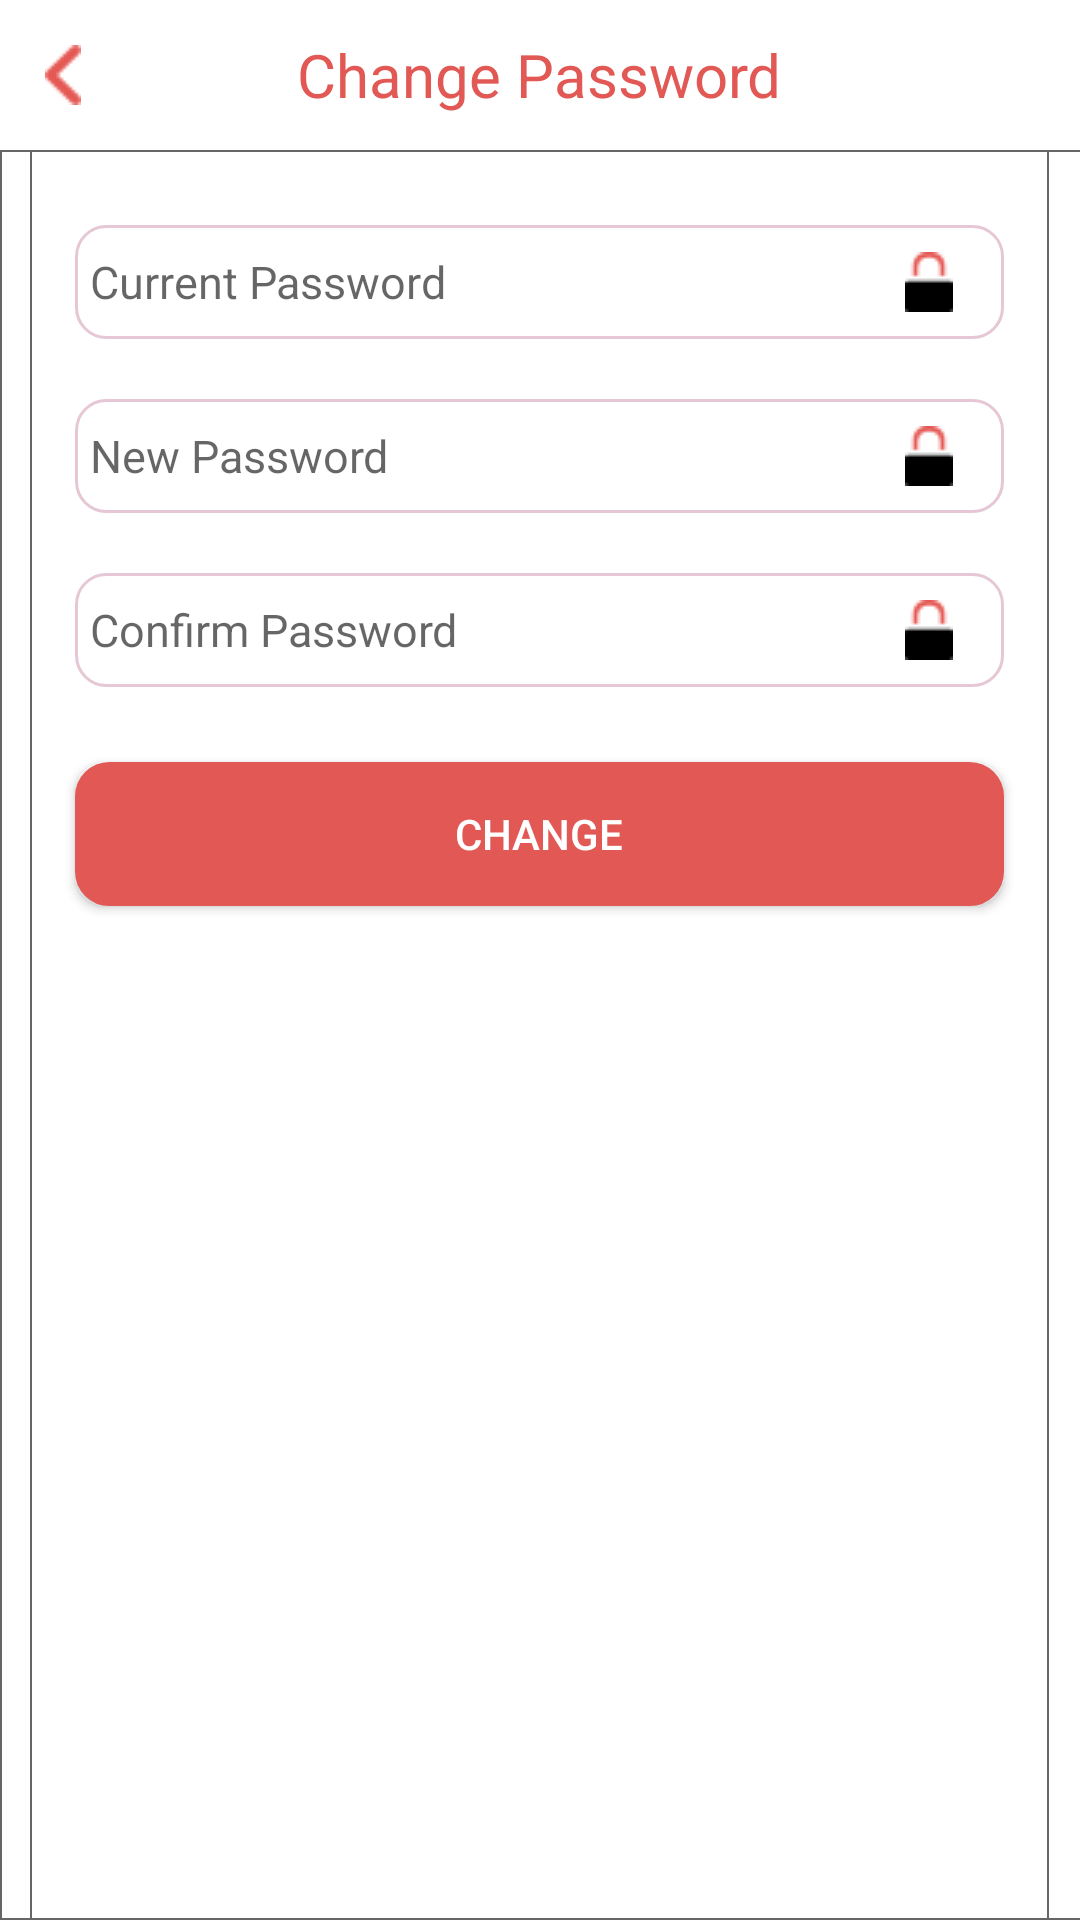

Point at icon controls on the screen. Image size 1080x1920, points as (x,y).
back arrow: (63,75)
